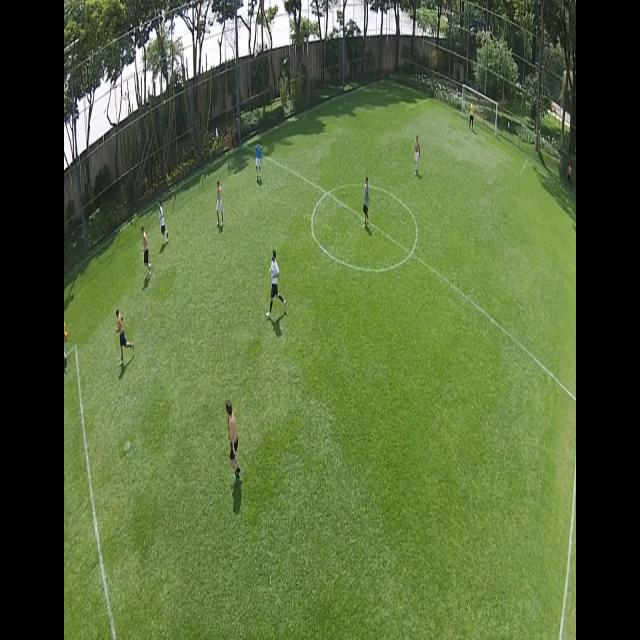humans: (224, 400, 246, 490), (268, 248, 288, 322), (113, 311, 135, 377), (138, 222, 154, 286), (156, 200, 170, 249), (215, 181, 226, 238), (362, 175, 373, 227), (255, 138, 265, 189), (414, 135, 424, 180), (470, 99, 477, 133)
